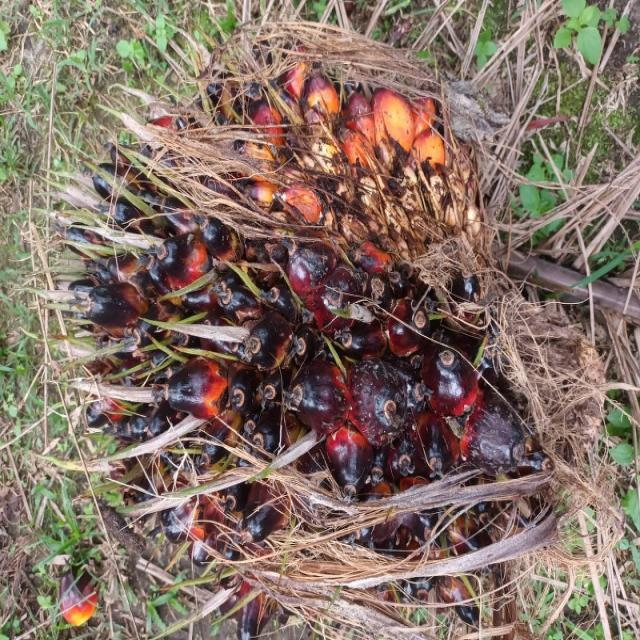fraksi 1: (63, 6, 567, 572)
